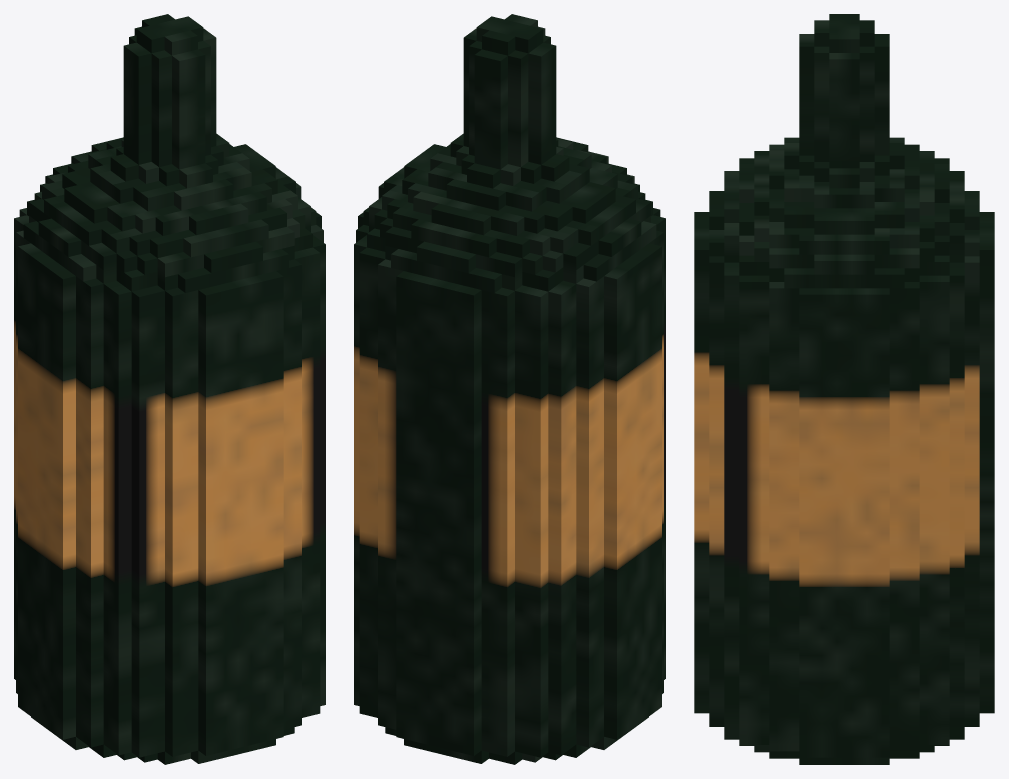
The model's file is SmallObject_Bottle.fbx.
3 views of the same model, side by side, from view 1: azimuth 30°, elevation 25°; view 2: azimuth 150°, elevation 25°; view 3: azimuth 270°, elevation 25° (orthographic).
Visible parts, largest first — view 1: Bottle; view 2: Bottle; view 3: Bottle.
Part boxes in pixels (x1=…): Bottle: x1=14, y1=14, x2=325, y2=764; Bottle: x1=354, y1=14, x2=665, y2=764; Bottle: x1=694, y1=14, x2=994, y2=764.
Size of the model in its own units: 20 by 50 by 20.
